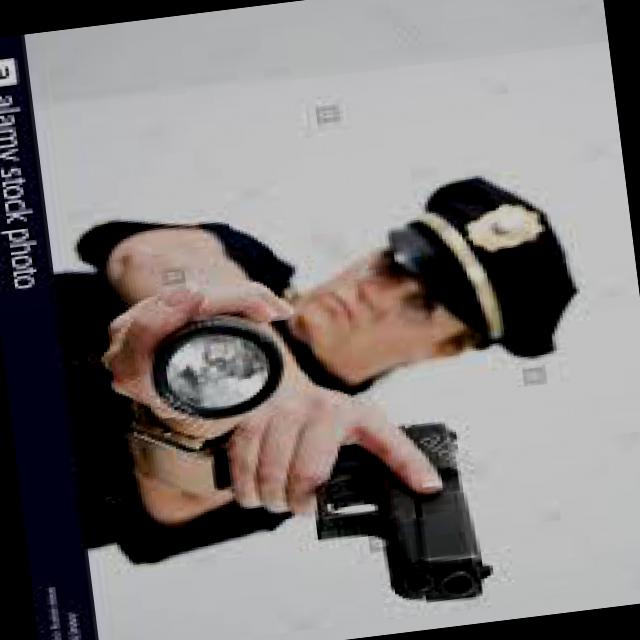handgun: (204, 412, 499, 632)
